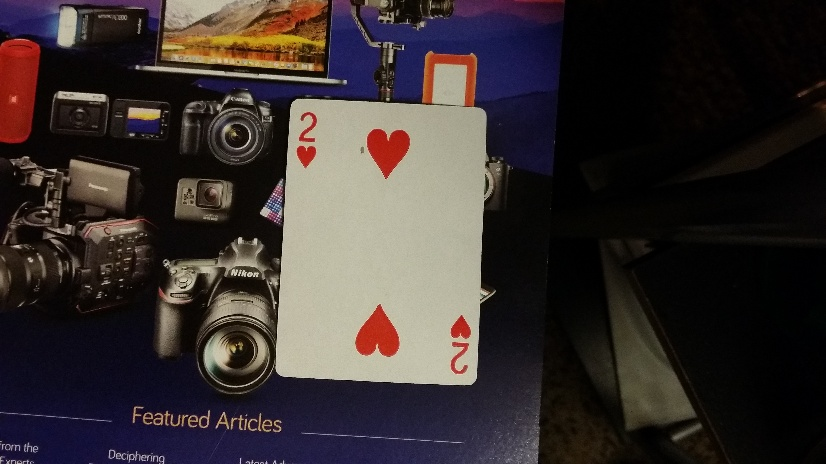H2: (447, 311, 474, 380), (296, 106, 320, 172)
